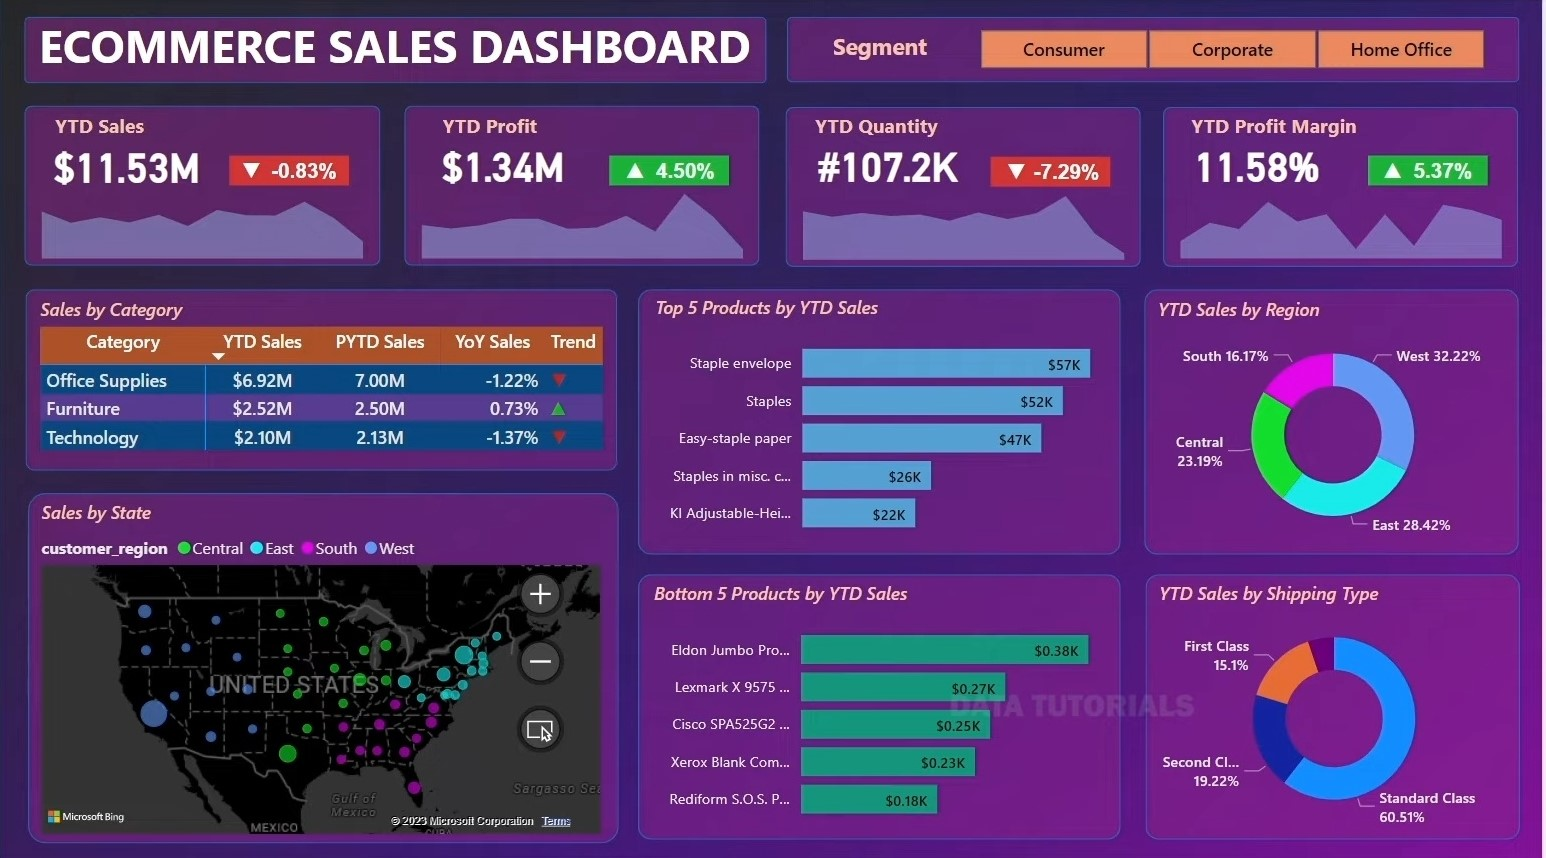

The page's visual inventory and layout, read from the dashboard file:
{"tool":"powerbi","page":{"name":"Page 1","canvas":[1280,720],"ordinal":0},"visuals":[{"type":"shape","box":[21.8,18.5,615,55],"z":0},{"type":"textbox","box":[22.4,17.9,614.9,55.2],"z":1000},{"type":"shape","box":[23.5,95.6,295.3,132.5],"z":2000},{"type":"areaChart","fields":{"Category":["Calender.Month"],"Y":["Sum(ecommerce_data.sales_per_order)"]},"box":[0,156,295.3,72.1],"z":3000},{"type":"shape","box":[184.5,135.9,100.7,25.2],"z":4000},{"type":"card","fields":{"Values":["ecommerce_data.YTD Sales"]},"box":[21.8,119.1,147.6,50.3],"z":5000},{"type":"card","fields":{"Values":["ecommerce_data.YOY Sales"]},"box":[192.8,134.6,102,32.6],"z":6000},{"type":"card","fields":{"Values":["ecommerce_data.Sales Icon"]},"box":[184.5,135.9,31.9,25.2],"z":7000},{"type":"textbox","box":[36.9,93.9,93.9,35.2],"z":8000},{"type":"shape","box":[338.8,95.6,295,133],"z":9000},{"type":"areaChart","fields":{"Category":["Calender.Month"],"Y":["Sum(ecommerce_data.profit_per_order)"]},"box":[338.9,156,295.3,72.1],"z":10000},{"type":"shape","box":[511.7,130.9,100.7,25.2],"z":11000},{"type":"card","fields":{"Values":["ecommerce_data.YTD Profit"]},"box":[332.2,124.1,162.7,38.6],"z":12000},{"type":"card","fields":{"Values":["ecommerce_data.YOY Profit"]},"box":[542.8,130.4,69.4,29.8],"z":13000},{"type":"card","fields":{"Values":["ecommerce_data.Profit Icon"]},"box":[511.7,130.9,31.9,25.2],"z":14000},{"type":"textbox","box":[360.6,93.9,93.9,36.9],"z":15000},{"type":"shape","box":[647.4,98.8,295,133],"z":16000},{"type":"areaChart","fields":{"Category":["Calender.Month"],"Y":["Sum(ecommerce_data.order_quantity)"]},"box":[647.5,166.1,295.3,67.1],"z":17000},{"type":"shape","box":[820.3,134.1,100.7,25.2],"z":18000},{"type":"card","fields":{"Values":["ecommerce_data.YTD conc Qty"]},"box":[640.8,127.4,162.7,38.6],"z":19000},{"type":"card","fields":{"Values":["ecommerce_data.YOY Qty"]},"box":[846.1,134.6,75.1,32.6],"z":20000},{"type":"card","fields":{"Values":["ecommerce_data.Qty Icon"]},"box":[820.3,135.9,25.2,25.2],"z":21000},{"type":"textbox","box":[669.4,97.3,125.8,33.6],"z":22000},{"type":"shape","box":[957.7,100.5,295,133],"z":23000},{"type":"areaChart","fields":{"Category":["Calender.Month"],"Y":["ecommerce_data.Profit Margin"]},"box":[957.8,167.7,295.3,67.1],"z":24000},{"type":"shape","box":[1130.6,135.8,100.7,25.2],"z":25000},{"type":"card","fields":{"Values":["ecommerce_data.YTD Profit Margin"]},"box":[951.1,129,162.7,38.6],"z":26000},{"type":"card","fields":{"Values":["ecommerce_data.YOY Profit Margin"]},"box":[1156.5,136.1,75.1,26.9],"z":27000},{"type":"card","fields":{"Values":["ecommerce_data.Profit Margin Icon"]},"box":[1130.7,134.2,25.2,25.2],"z":28000},{"type":"textbox","box":[979.7,99,162.7,33.6],"z":29000},{"type":"shape","box":[23.5,250,490,150],"z":30000},{"type":"pivotTable","title":"Sales by Category","fields":{"Rows":["ecommerce_data.category_name"],"Values":["ecommerce_data.YTD Sales","ecommerce_data.PYTD Sales","ecommerce_data.YOY Sales","ecommerce_data.Sales Icon"]},"box":[26.9,250.7,486.6,149.3],"z":31000},{"type":"shape","box":[26.9,414.9,486.6,294],"z":32000},{"type":"map","title":"Sales by State","fields":{"Y":["us_state_long_lat_codes.latitude"],"X":["us_state_long_lat_codes.longitude"],"Size":["ecommerce_data.YTD Sales"],"Series":["ecommerce_data.customer_region"]},"box":[26.9,414.9,485.1,294],"z":33000},{"type":"shape","box":[526.9,250.7,400,220],"z":34000},{"type":"shape","box":[526.9,485.1,400,220],"z":35000},{"type":"barChart","title":"Top 5 Products by YTD Sales","fields":{"Category":["ecommerce_data.product_name"],"Y":["ecommerce_data.YTD Sales"]},"box":[526.9,250.7,400,219.4],"z":36000},{"type":"barChart","title":"Bottom 5 Products by YTD Sales","fields":{"Category":["ecommerce_data.product_name"],"Y":["ecommerce_data.YTD Sales"]},"box":[526.9,485.1,400,219.4],"z":37000},{"type":"shape","box":[943.3,249.3,310.4,219.4],"z":38000},{"type":"shape","box":[943.3,485.1,310.4,219.4],"z":39000},{"type":"donutChart","title":"YTD Sales by Region","fields":{"Category":["ecommerce_data.customer_region"],"Y":["ecommerce_data.YTD Sales"]},"box":[943.3,249.3,310.4,219.4],"z":40000},{"type":"donutChart","title":"YTD Sales by Shipping Type","fields":{"Y":["ecommerce_data.YTD Sales"],"Category":["ecommerce_data.shipping_type"]},"box":[943.3,485.1,310.4,219.4],"z":41000},{"type":"shape","box":[640.3,17.9,613.4,55.2],"z":42000},{"type":"slicer","fields":{"Values":["ecommerce_data.customer_segment"]},"box":[803,19.4,450.7,53.7],"z":43000},{"type":"textbox","box":[653.4,25.5,167.2,42.5],"z":44000}]}

Visuals, with their boxes in screenshot pixels (x1, y1, x2, y2), scaled from the page's 1280x720 canvas onto the 1546x858 screenshot:
shape: bbox=[26, 22, 769, 88]
textbox: bbox=[27, 21, 770, 87]
shape: bbox=[28, 114, 385, 272]
areaChart - Calender.Month x Sum(ecommerce_data.sales_per_order): bbox=[0, 186, 357, 272]
shape: bbox=[223, 162, 344, 192]
card - ecommerce_data.YTD Sales: bbox=[26, 142, 205, 202]
card - ecommerce_data.YOY Sales: bbox=[233, 160, 356, 199]
card - ecommerce_data.Sales Icon: bbox=[223, 162, 261, 192]
textbox: bbox=[45, 112, 158, 154]
shape: bbox=[409, 114, 766, 272]
areaChart - Calender.Month x Sum(ecommerce_data.profit_per_order): bbox=[409, 186, 766, 272]
shape: bbox=[618, 156, 740, 186]
card - ecommerce_data.YTD Profit: bbox=[401, 148, 598, 194]
card - ecommerce_data.YOY Profit: bbox=[656, 155, 739, 191]
card - ecommerce_data.Profit Icon: bbox=[618, 156, 657, 186]
textbox: bbox=[436, 112, 549, 156]
shape: bbox=[782, 118, 1138, 276]
areaChart - Calender.Month x Sum(ecommerce_data.order_quantity): bbox=[782, 198, 1139, 278]
shape: bbox=[991, 160, 1112, 190]
card - ecommerce_data.YTD conc Qty: bbox=[774, 152, 970, 198]
card - ecommerce_data.YOY Qty: bbox=[1022, 160, 1113, 199]
card - ecommerce_data.Qty Icon: bbox=[991, 162, 1021, 192]
textbox: bbox=[809, 116, 960, 156]
shape: bbox=[1157, 120, 1513, 278]
areaChart - Calender.Month x ecommerce_data.Profit Margin: bbox=[1157, 200, 1514, 280]
shape: bbox=[1366, 162, 1487, 192]
card - ecommerce_data.YTD Profit Margin: bbox=[1149, 154, 1345, 200]
card - ecommerce_data.YOY Profit Margin: bbox=[1397, 162, 1488, 194]
card - ecommerce_data.Profit Margin Icon: bbox=[1366, 160, 1396, 190]
textbox: bbox=[1183, 118, 1380, 158]
shape: bbox=[28, 298, 620, 477]
"Sales by Category" pivotTable: bbox=[32, 299, 620, 477]
shape: bbox=[32, 494, 620, 845]
"Sales by State" map: bbox=[32, 494, 618, 845]
shape: bbox=[636, 299, 1120, 561]
shape: bbox=[636, 578, 1120, 840]
"Top 5 Products by YTD Sales" barChart: bbox=[636, 299, 1120, 560]
"Bottom 5 Products by YTD Sales" barChart: bbox=[636, 578, 1120, 840]
shape: bbox=[1139, 297, 1514, 559]
shape: bbox=[1139, 578, 1514, 840]
"YTD Sales by Region" donutChart: bbox=[1139, 297, 1514, 559]
"YTD Sales by Shipping Type" donutChart: bbox=[1139, 578, 1514, 840]
shape: bbox=[773, 21, 1514, 87]
slicer - ecommerce_data.customer_segment: bbox=[970, 23, 1514, 87]
textbox: bbox=[789, 30, 991, 81]
